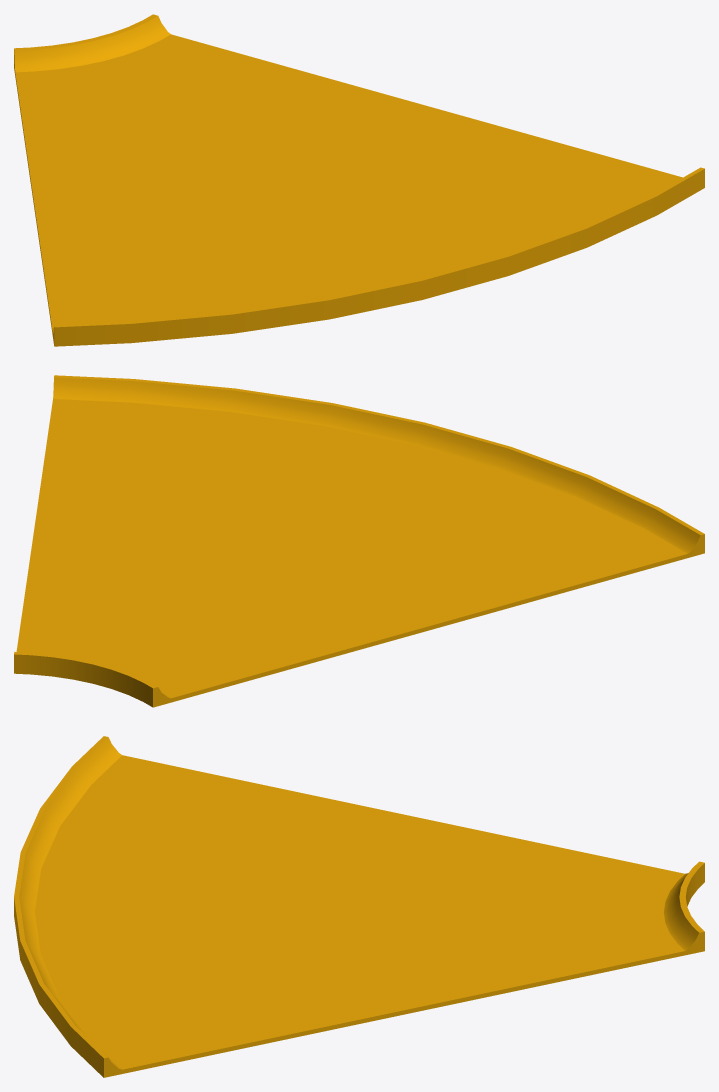
File: 14mTrack_Blockout_IregularSmallAngle2.fbx
3 renders of one model, top to bottom at view 1: azimuth 30°, elevation 25°; view 2: azimuth 150°, elevation 25°; view 3: azimuth 270°, elevation 25°, orthographic.
Visible parts, largest first — view 1: pCube47; view 2: pCube47; view 3: pCube47.
Part boxes in pixels (x1=…): pCube47: x1=14, y1=14, x2=704, y2=346; pCube47: x1=14, y1=375, x2=704, y2=707; pCube47: x1=14, y1=736, x2=704, y2=1077.
Size of the model in its own units: 1590 by 45 by 1440.
